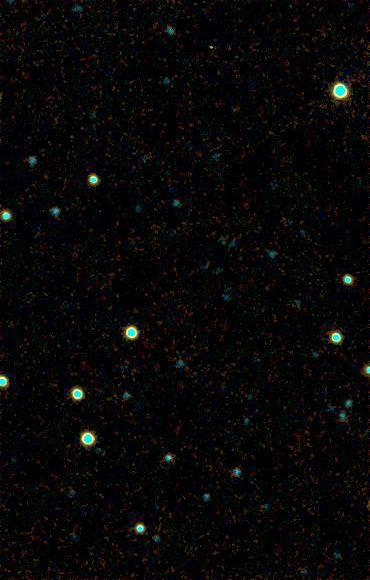star: (197, 31, 227, 61)
